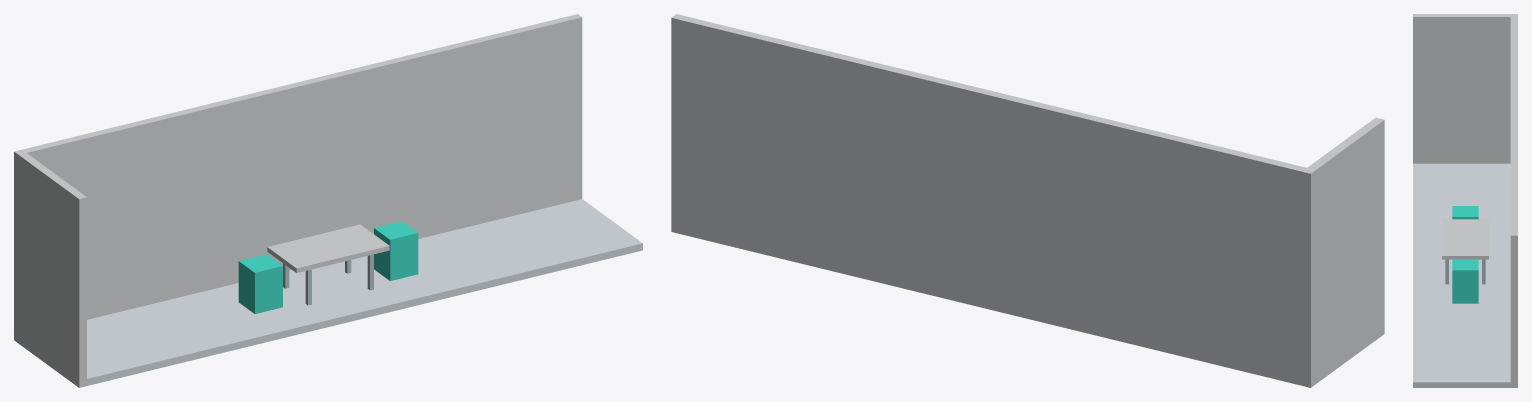
3 views of the same model, side by side, from view 1: azimuth 30°, elevation 25°; view 2: azimuth 150°, elevation 25°; view 3: azimuth 270°, elevation 25° (orthographic). The views are drawn at different scales.
Visible parts, largest first — view 1: Exhibition Booth Concept; view 2: Exhibition Booth Concept; view 3: Exhibition Booth Concept.
Part boxes in pixels (left/top/right/bottom): Exhibition Booth Concept: left=14, top=14, right=642, bottom=387; Exhibition Booth Concept: left=671, top=14, right=1384, bottom=387; Exhibition Booth Concept: left=1413, top=14, right=1517, bottom=387.
Size of the model in its own units: 10 by 3.2 by 2.
